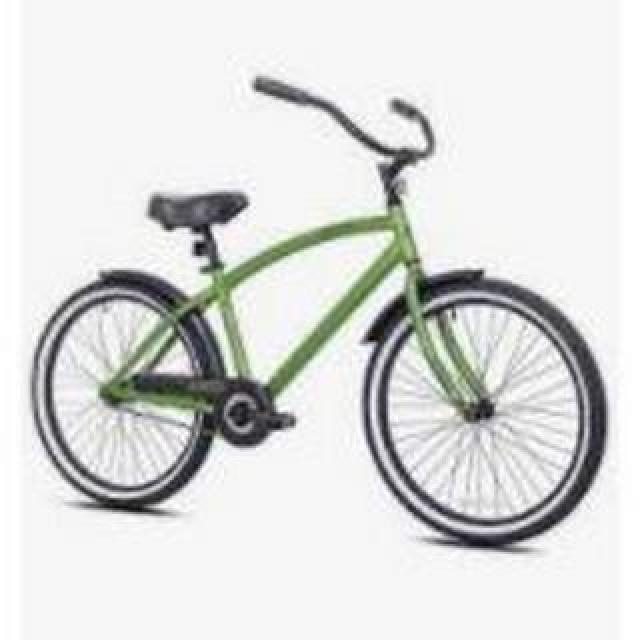Person: (26, 64, 606, 552)
